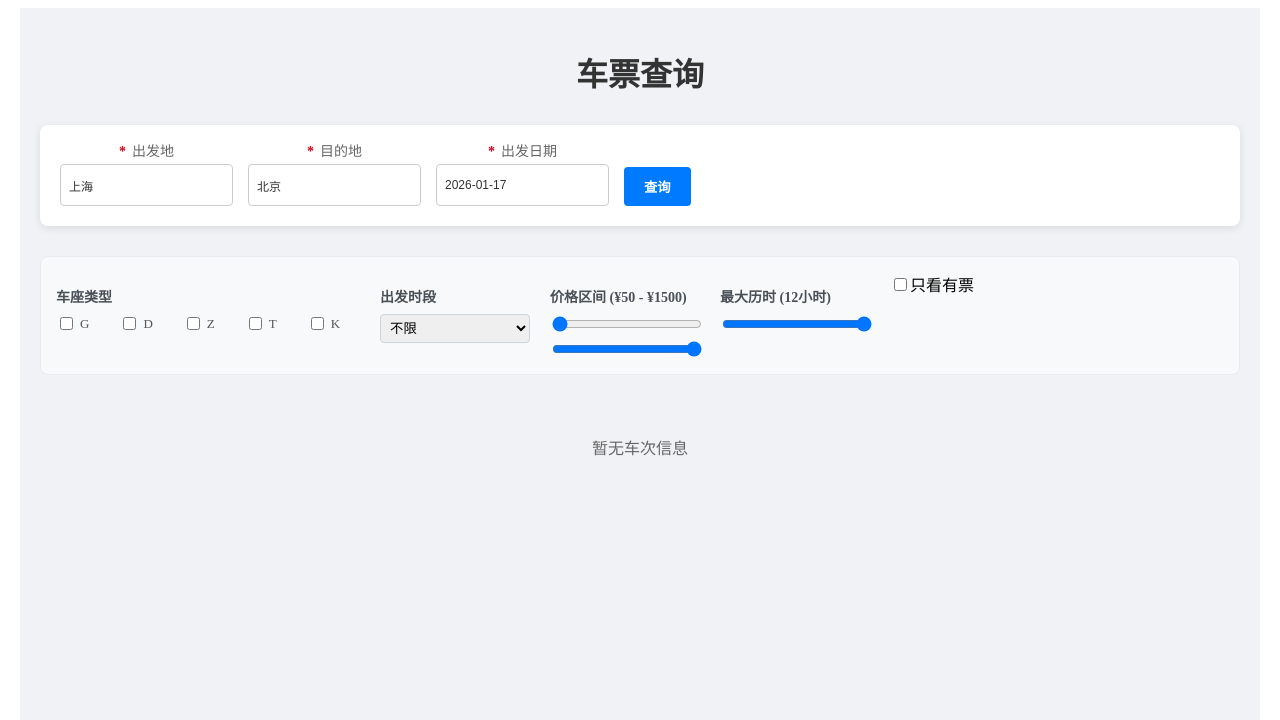
Test: TicketSearch Integration Test › searches and displays tickets
The width and height of the screenshot is (1280, 720).
Click the button "查询": coordinates (657, 187) [624, 167, 691, 206]
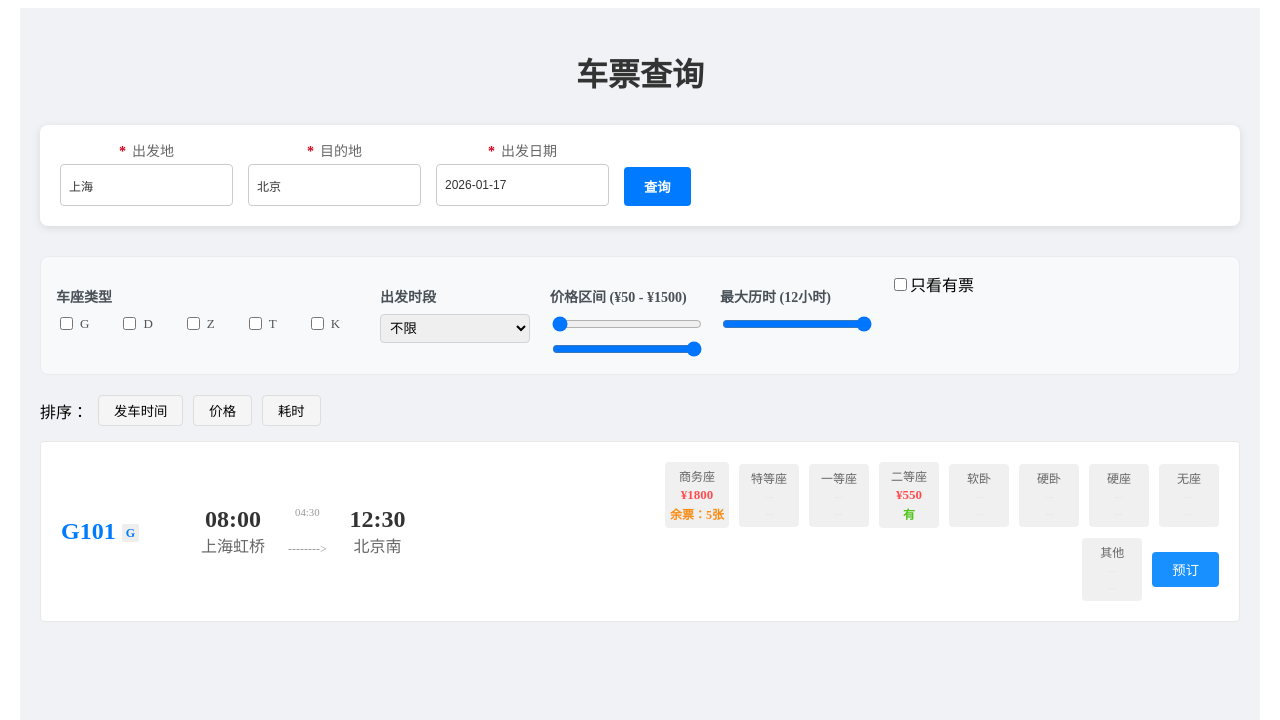
Expected: the text "G101" is shown, [61, 518, 116, 544]
Expected: the text "08:00" is shown, [201, 506, 265, 533]
Expected: the text "¥550" is shown, [896, 487, 922, 503]
